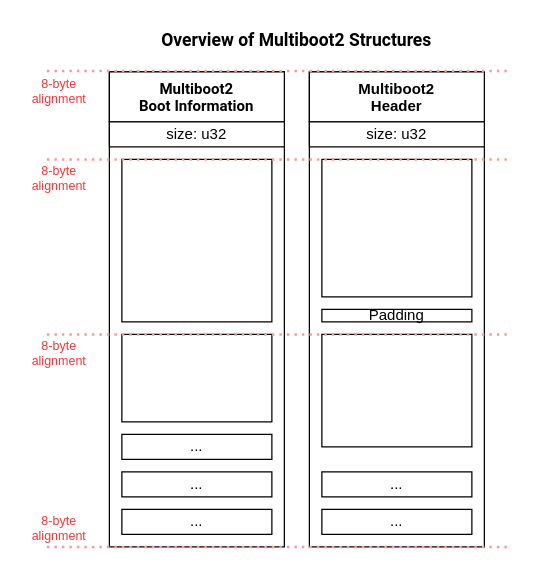
This 533x570 diagram has some shape labels left out. Each missing label, with the centre of its shape:
"CommandLineTag type: u32 = 1 size: u32 = 11 str: [u8] = [ 'h' 'i' '\0' ]" goes at [196,240].
"InformationReq type: u16 = 1 flags: u16 = 0 size: u32 = 11 reqs: [u32] = [ 1 ];" goes at [396,227].
"Tag X type: u32 = x size: u32 = y a: u16 = z" goes at [196,377].
"Tag Y type: u16 = x flags: u16 = y size: u32 = z bar: u64 = x" goes at [396,390].
